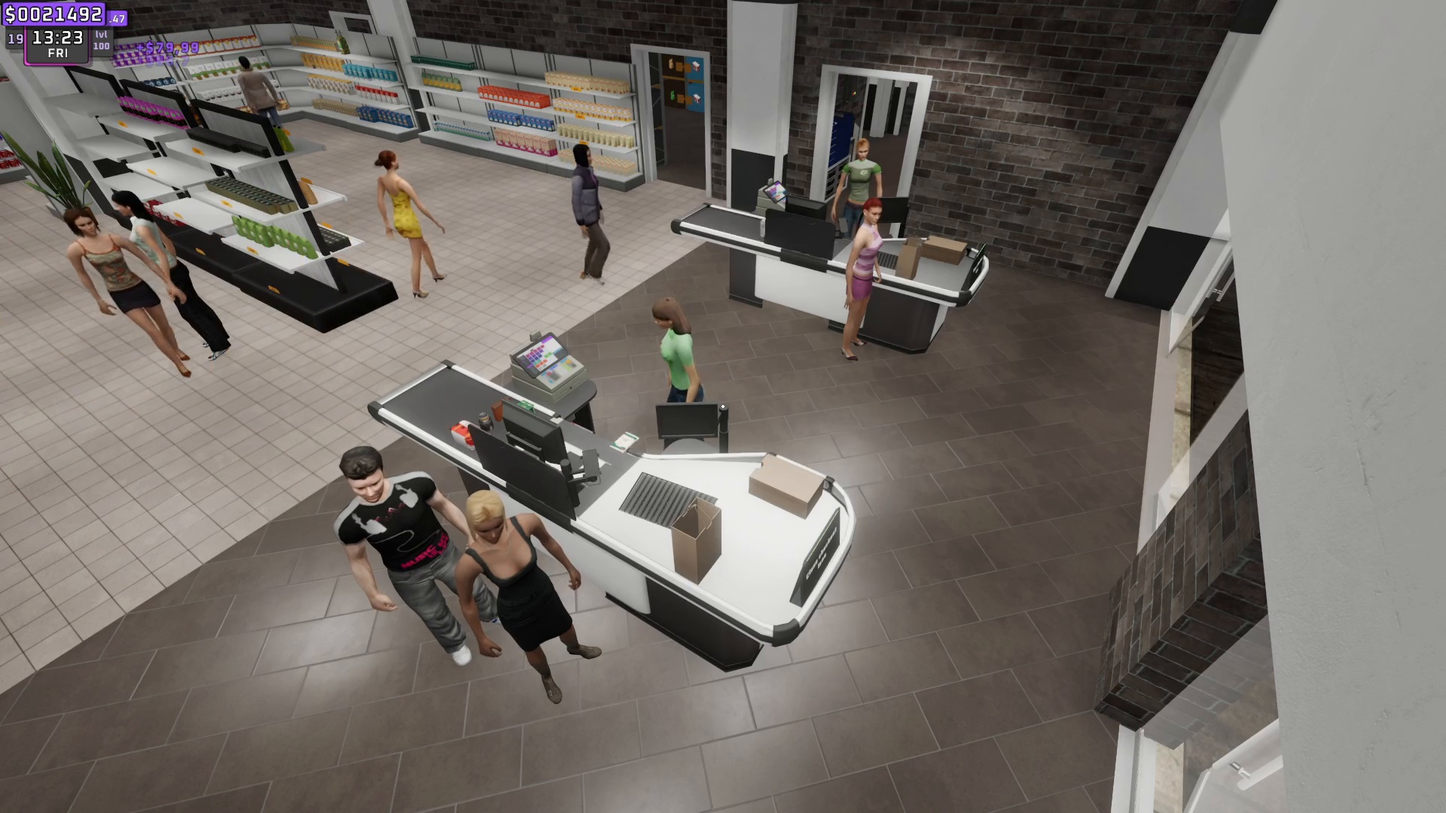Client: (322, 444, 483, 650), (464, 491, 605, 689), (846, 202, 896, 352)
Employee: (642, 299, 716, 399), (838, 137, 885, 200)
